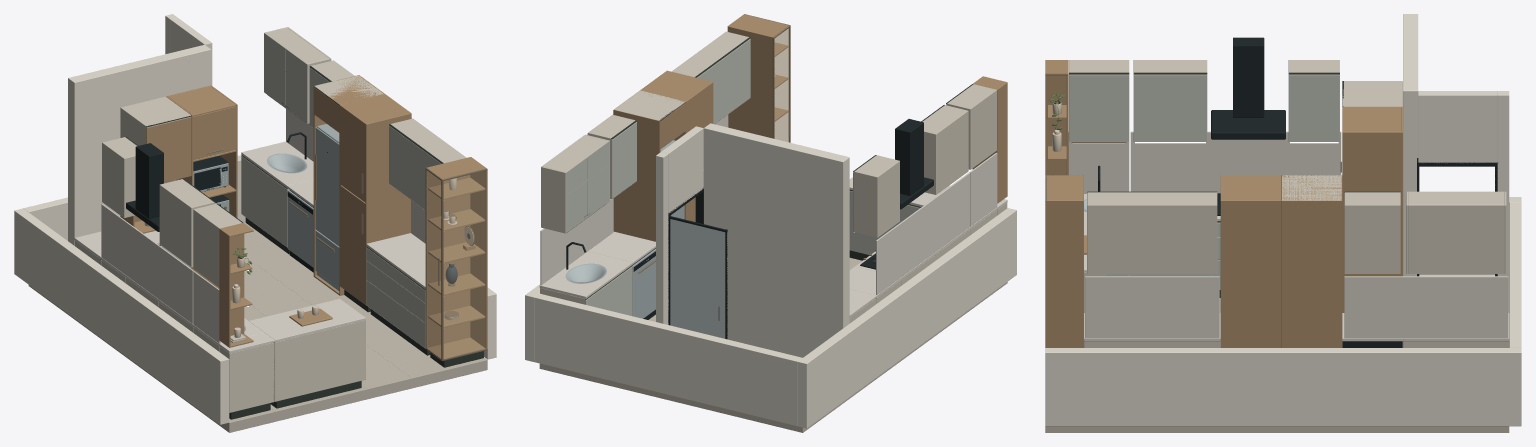
File: configurator-cabinet-bc6b8e15bf64.glb
3 renders of one model, left to right at view 1: azimuth 30°, elevation 25°; view 2: azimuth 150°, elevation 25°; view 3: azimuth 270°, elevation 25°, orthographic. The views are drawn at different scales.
Visible parts, largest first — view 1: Surface 10, Surface 3, Surface 7, Surface 2, Surface 1, Surface 9, Surface 19, Surface 11, Surface 4, Surface 8, Surface 6, Surface 16; view 2: Surface 3, Surface 7, Surface 2, Surface 10, Surface 9, Surface 5, Surface 4, Surface 1, Surface 11, Surface 19, Surface 6, Surface 8; view 3: Surface 3, Surface 10, Surface 2, Surface 7, Surface 9, Surface 4, Surface 1, Surface 8.
Boxes of the visible parts, left/top/right/bottom form: Surface 10: left=120, top=75, right=487, bottom=400; Surface 3: left=14, top=14, right=496, bottom=424; Surface 7: left=75, top=27, right=466, bottom=412; Surface 2: left=74, top=109, right=425, bottom=353; Surface 1: left=28, top=223, right=487, bottom=432; Surface 9: left=100, top=33, right=440, bottom=348; Surface 19: left=427, top=171, right=485, bottom=358; Surface 11: left=193, top=124, right=339, bottom=331; Surface 4: left=126, top=132, right=327, bottom=272; Surface 8: left=100, top=66, right=483, bottom=419; Surface 6: left=206, top=95, right=487, bottom=360; Surface 16: left=144, top=222, right=318, bottom=337; Surface 3: left=525, top=123, right=1016, bottom=428; Surface 7: left=540, top=31, right=1007, bottom=323; Surface 2: left=539, top=114, right=1007, bottom=317; Surface 10: left=613, top=14, right=1007, bottom=241; Surface 9: left=566, top=39, right=947, bottom=316; Surface 5: left=670, top=219, right=727, bottom=338; Surface 4: left=566, top=119, right=933, bottom=339; Surface 1: left=539, top=258, right=1007, bottom=432; Surface 11: left=565, top=140, right=684, bottom=318; Surface 19: left=774, top=28, right=788, bottom=142; Surface 6: left=567, top=14, right=875, bottom=320; Surface 8: left=585, top=37, right=973, bottom=299; Surface 3: left=1045, top=14, right=1521, bottom=426; Surface 10: left=1045, top=60, right=1402, bottom=347; Surface 2: left=1068, top=131, right=1509, bottom=341; Surface 7: left=1069, top=60, right=1509, bottom=347; Surface 9: left=1069, top=75, right=1339, bottom=289; Surface 4: left=1098, top=37, right=1497, bottom=347; Surface 1: left=1045, top=298, right=1509, bottom=432; Surface 8: left=1069, top=72, right=1400, bottom=297.
Bounding box in the file's own units: 3.64 × 2.98 × 4.7.
